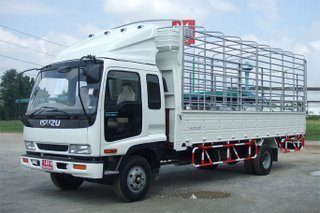truck: (22, 23, 167, 202)
